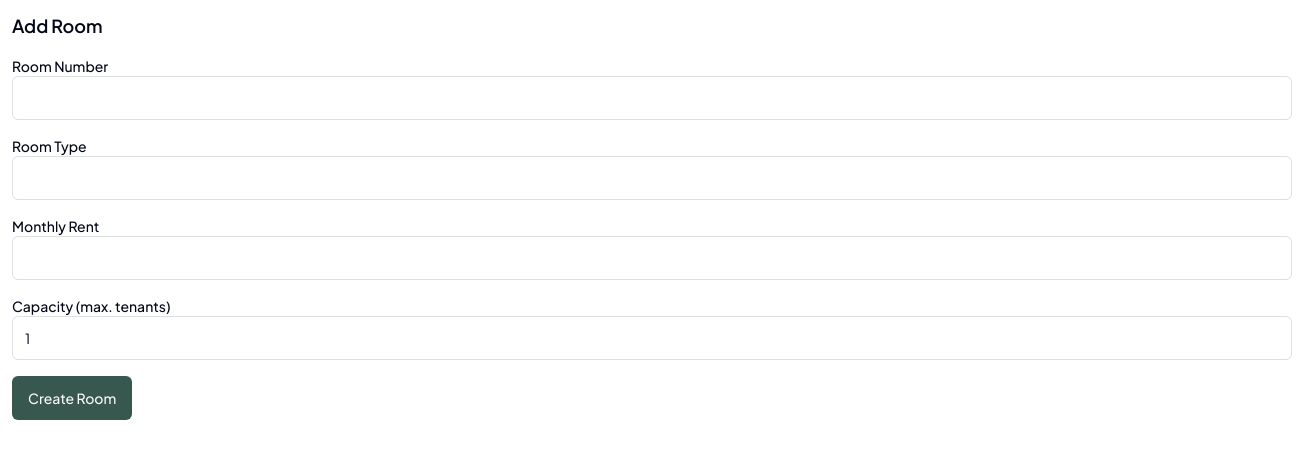
RoomForm › bad cases › shows validation error when monthly rent is negative
Type "A101" into the field labelled "Room Number".
click(652, 98); type("A101")  # box [12,76,1292,120]
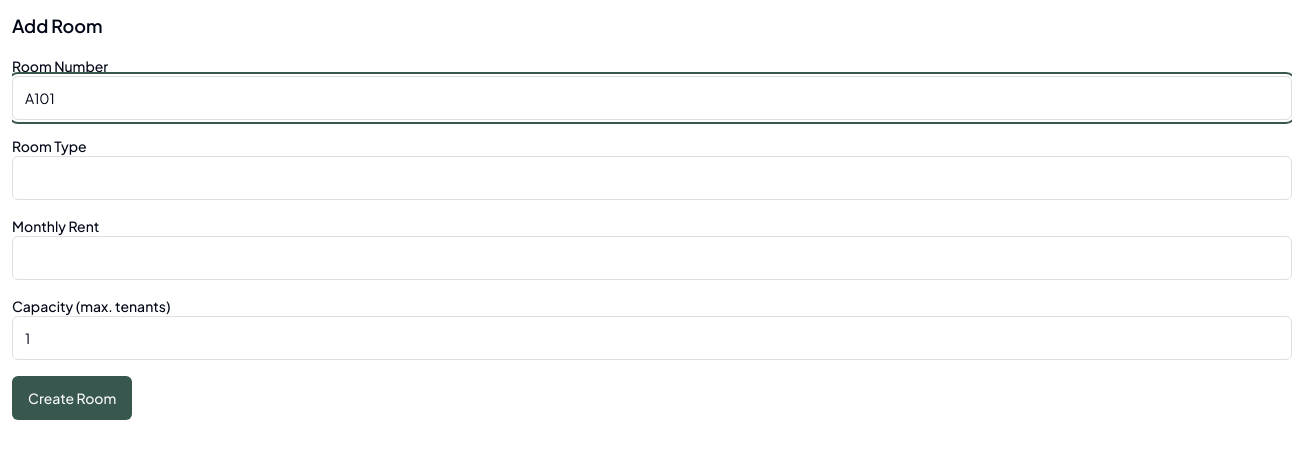
Type "single" into the field labelled "Room Type".
click(652, 178); type("single")  # box [12,156,1292,200]
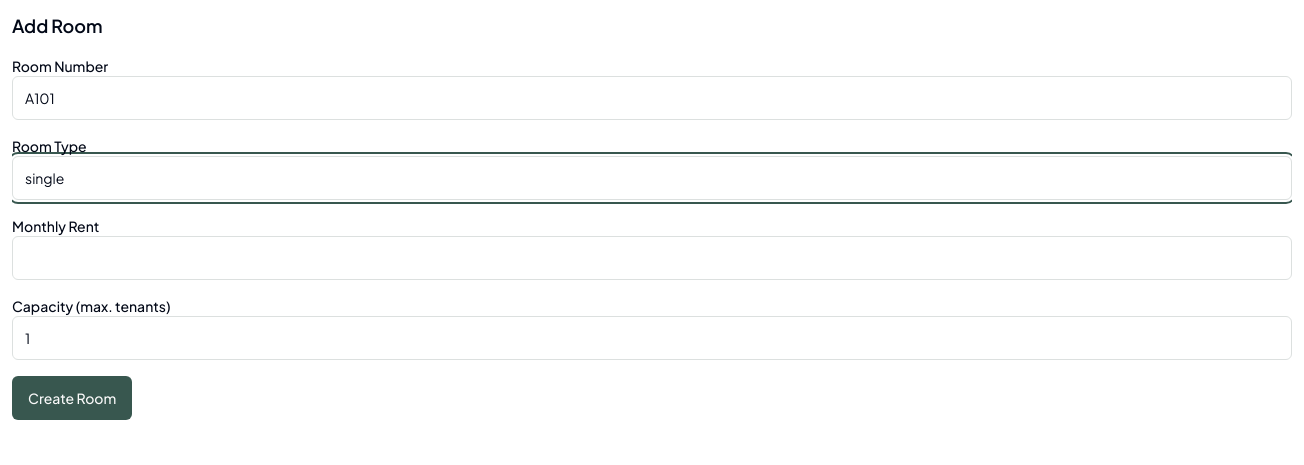
Type "-100" into the number field labelled "Monthly Rent".
click(652, 258); type("-100")  # box [12,236,1292,280]
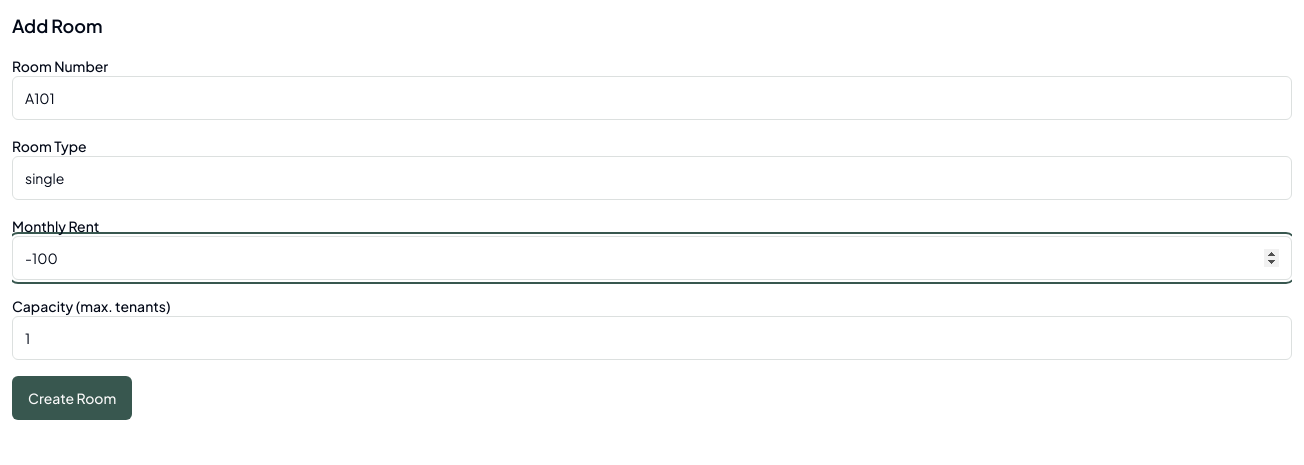
Click the button "Create Room".
click(72, 398)  # box [12,376,132,420]
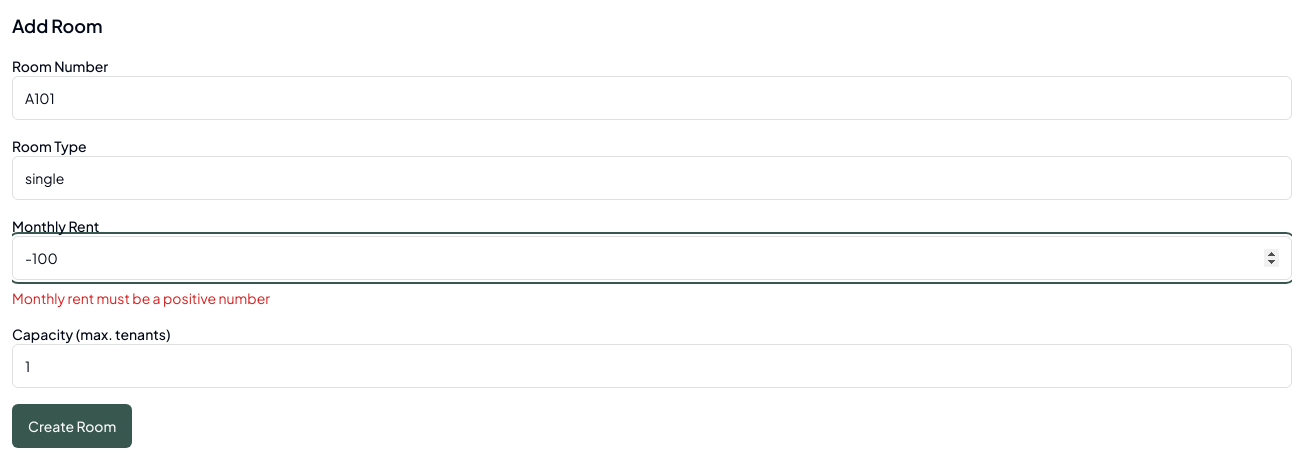
Expected: the text "Monthly rent must be a positive number" is shown, [12,289,270,307]
